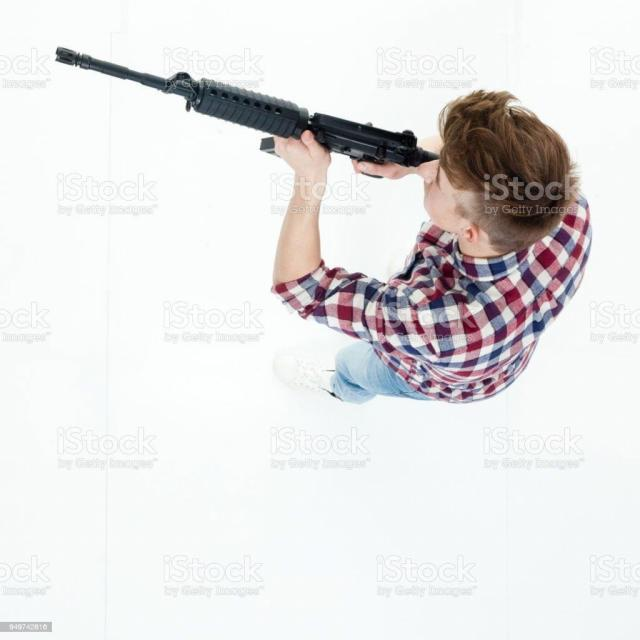gun: (51, 46, 439, 167)
